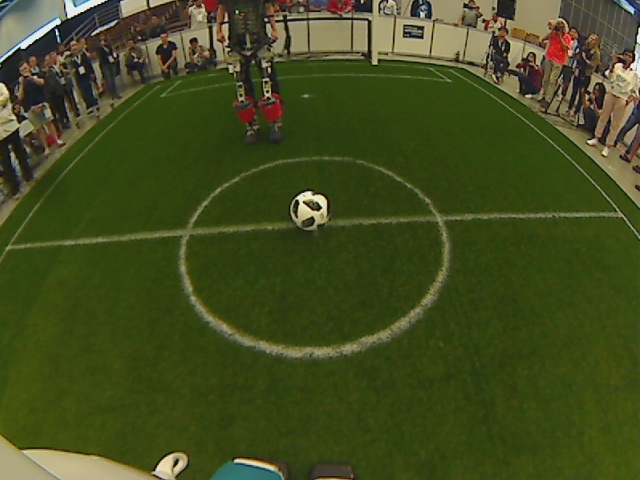ball: (287, 186, 335, 234)
